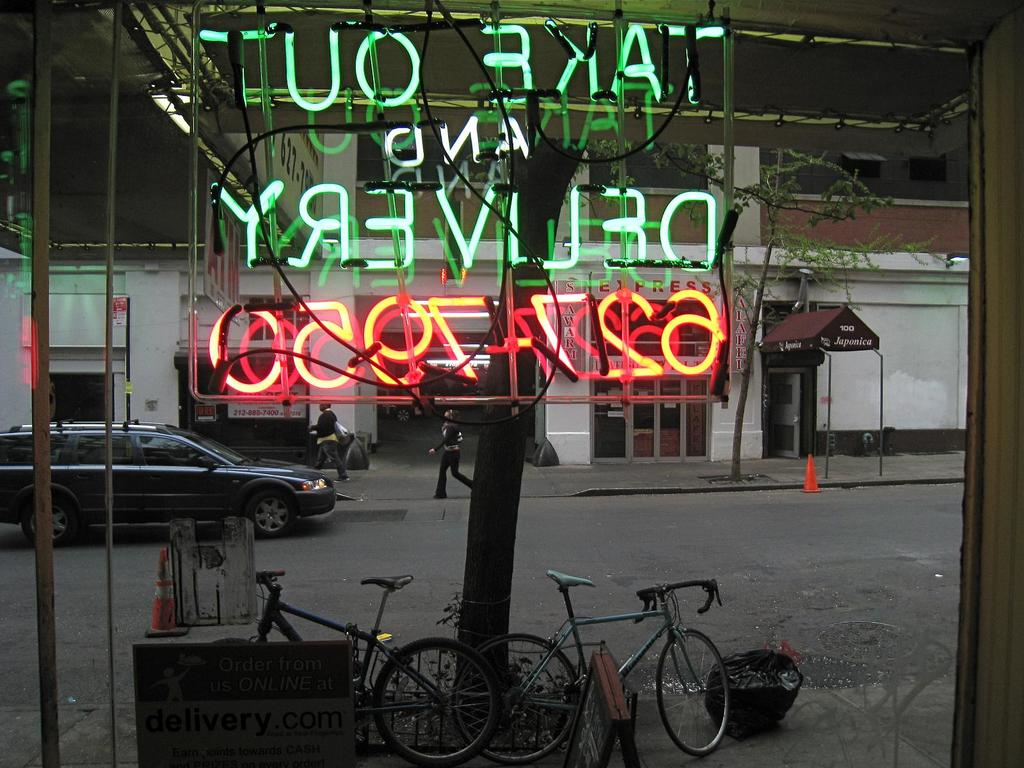Bike_toward: (209, 562, 474, 768)
